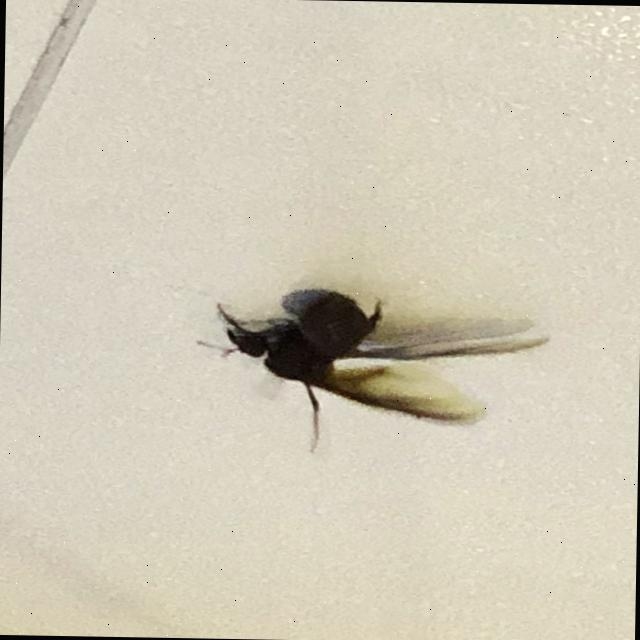Dead-Female-Alate: (193, 286, 552, 459)
